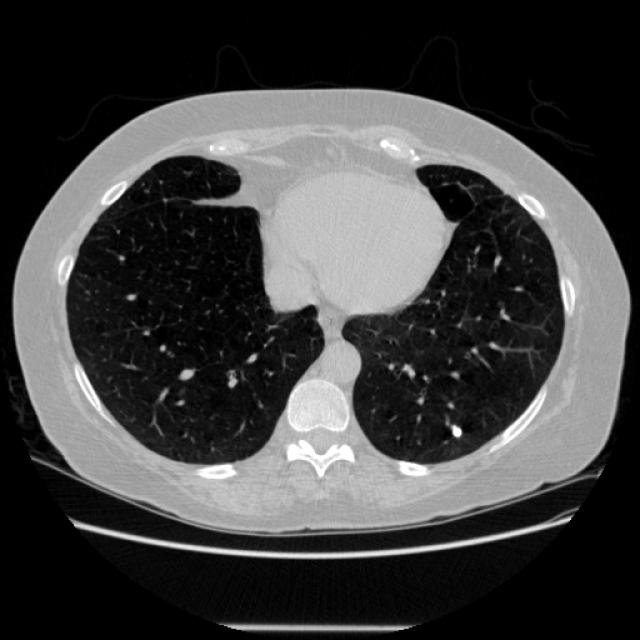nodule: (445, 420, 467, 442)
